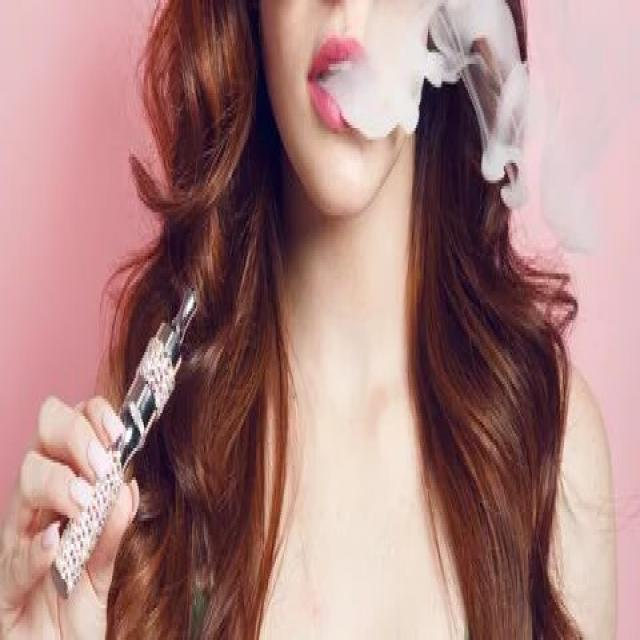smoke: (51, 288, 201, 611)
